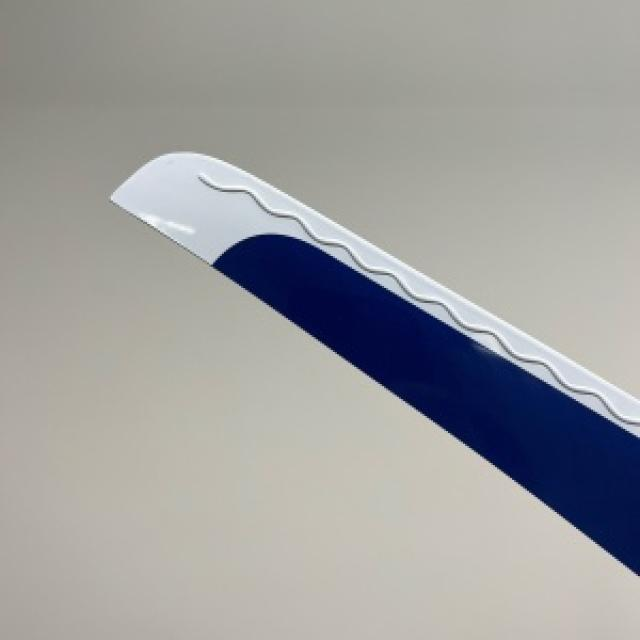healthy: (111, 151, 638, 574)
